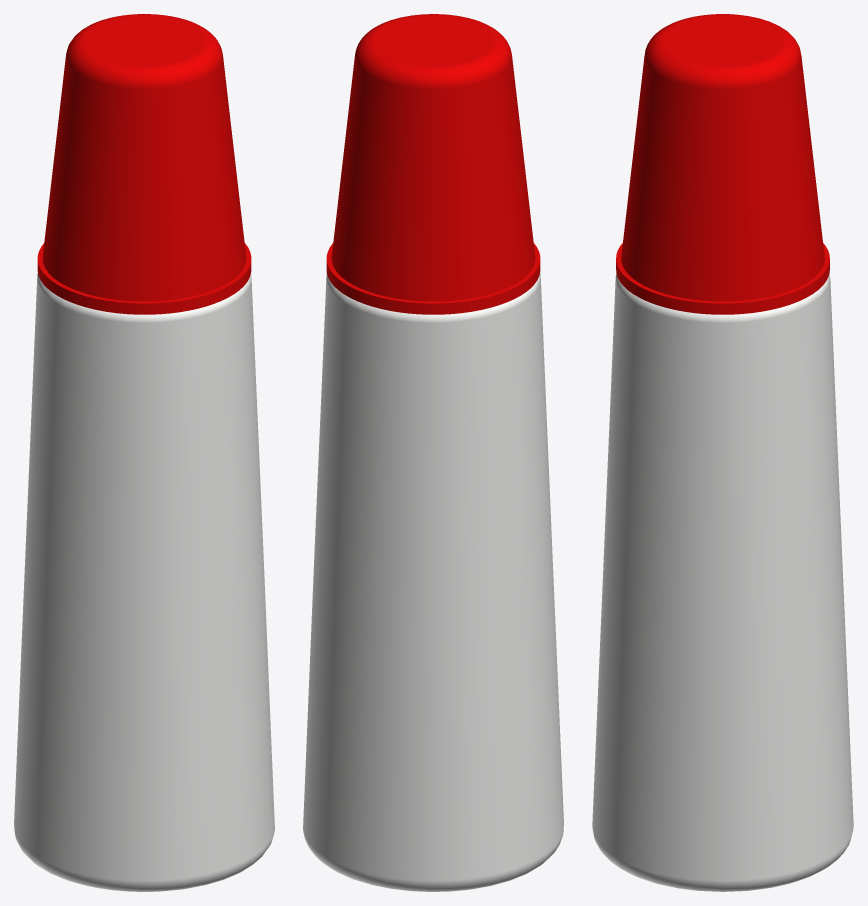
The model's file is 223_液体のり.glb.
3 renders of one model, left to right at view 1: azimuth 30°, elevation 25°; view 2: azimuth 150°, elevation 25°; view 3: azimuth 270°, elevation 25°, orthographic.
Parts seen in each view (by area): view 1: Body1, キャップ; view 2: Body1, キャップ; view 3: Body1, キャップ.
Boxes of the visible parts, left/top/right/bottom form: Body1: left=14, top=273, right=274, bottom=891; キャップ: left=37, top=14, right=251, bottom=314; Body1: left=303, top=272, right=563, bottom=891; キャップ: left=326, top=14, right=540, bottom=314; Body1: left=592, top=273, right=853, bottom=891; キャップ: left=616, top=14, right=829, bottom=314.
Bounding box in the file's own units: 0.0281 × 0.0949 × 0.0281.
